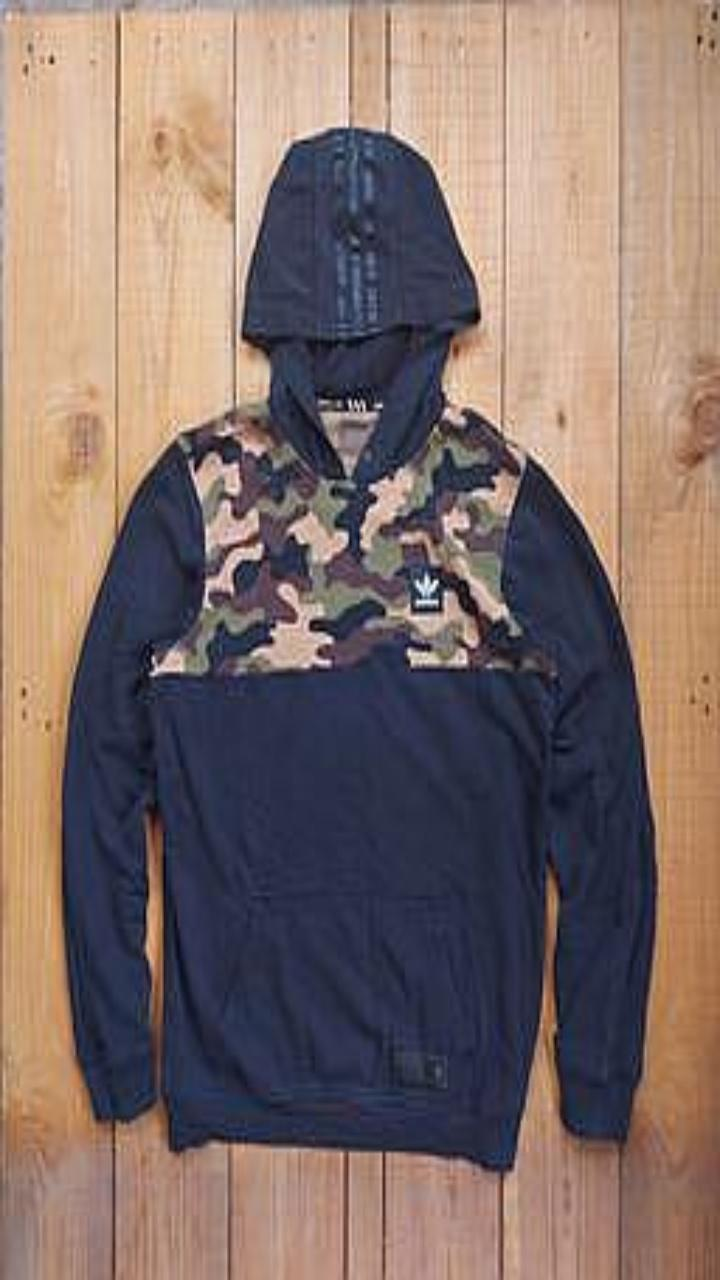Hoodie: (63, 127, 655, 1168)
